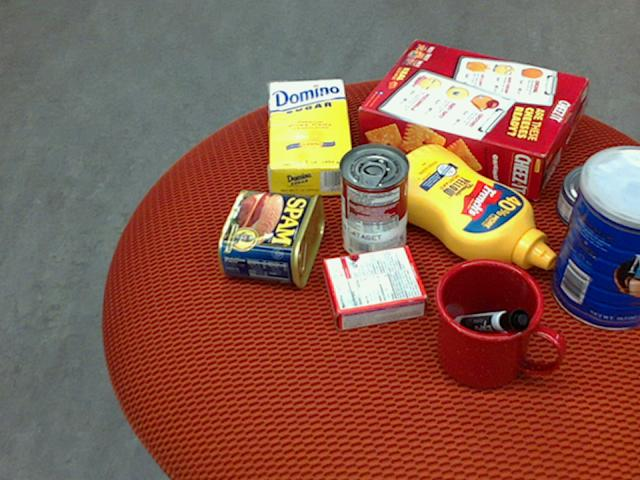cracker_box: (358, 39, 586, 198)
gelatin_box: (319, 247, 425, 331)
large_marker: (453, 307, 530, 334)
master_chef_can: (550, 144, 639, 330)
mug: (433, 258, 562, 389)
mustard_bottle: (378, 144, 555, 269)
potted_meat_can: (217, 189, 324, 288)
sugar_box: (267, 77, 355, 199)
tomato_soup_can: (337, 141, 408, 262)
tuna_fish_can: (555, 162, 639, 237)
